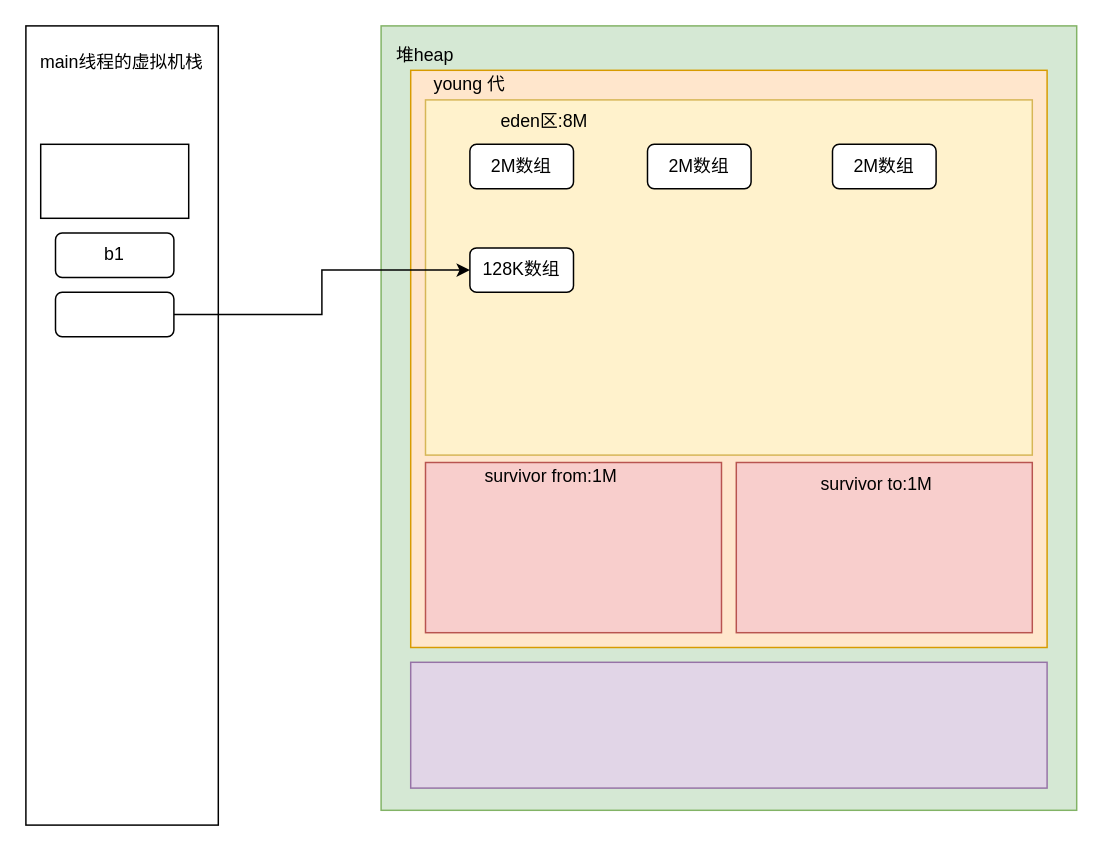
The diagram is 1103 pixels wide and 851 high, and some of its shapes have lost their labels. Here are the shapes that lost their labels. From the top down, the centre of each, then its label:
(114,180): main方法 栈帧 局部变量
(114,314): b2
(728,724): 老年代:10M
